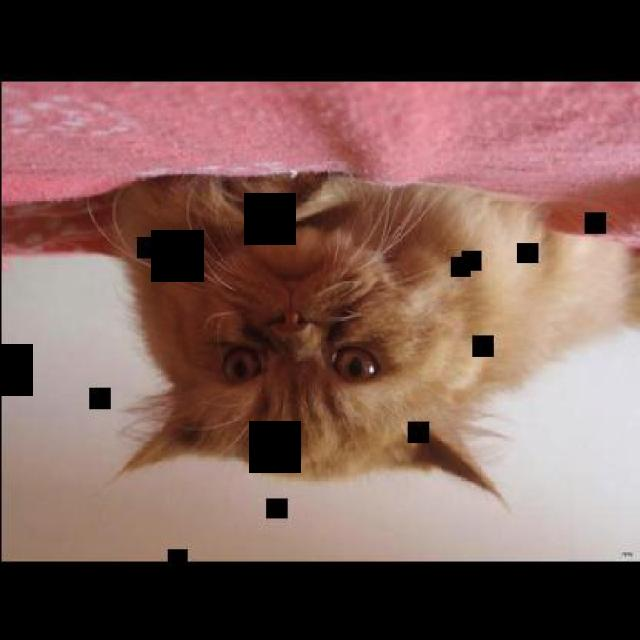unauthorized: (0, 167, 638, 507)
